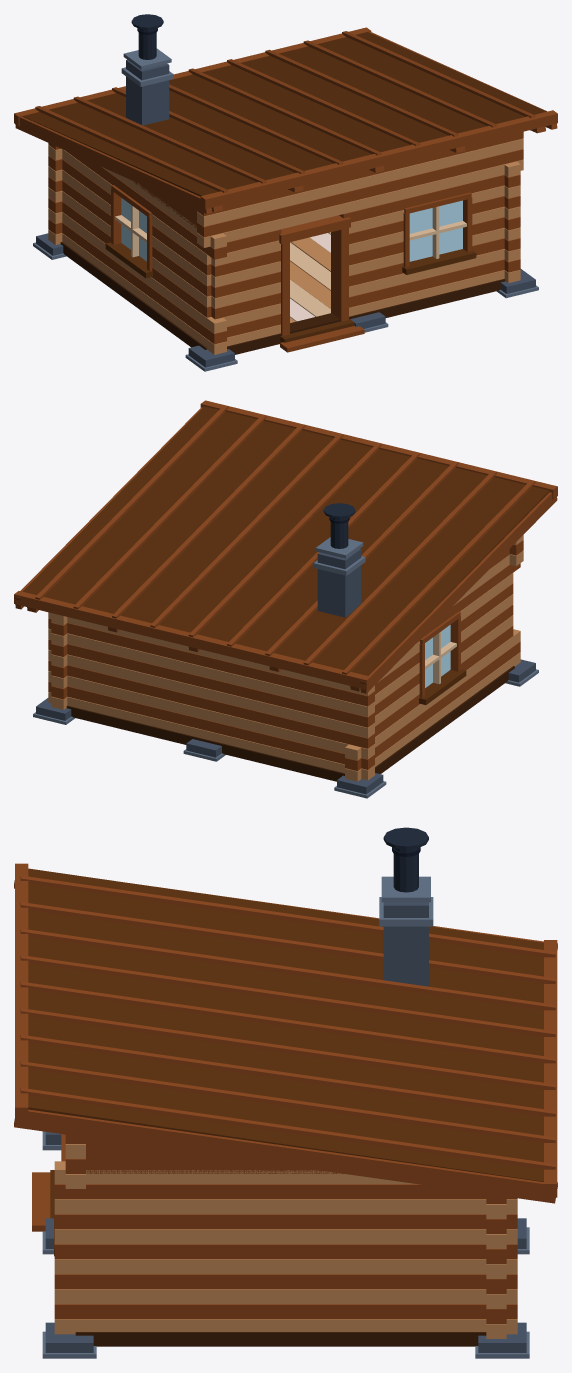
Rendered from player_house.obj.
The picture shows the model from 3 angles, top to bottom: view 1: azimuth 30°, elevation 25°; view 2: azimuth 150°, elevation 25°; view 3: azimuth 270°, elevation 25°; orthographic projection. The views are drawn at different scales.
Parts seen in each view (by area): view 1: House_SinglePitchRoof, House_TimberWalls, House_Windows, House_Foundation, House_DoorFrame, House_Chimney, House_PlankFloor; view 2: House_SinglePitchRoof, House_TimberWalls, House_Foundation, House_Chimney, House_Windows; view 3: House_SinglePitchRoof, House_TimberWalls, House_Foundation, House_Chimney, House_DoorFrame.
Boxes of the visible parts, x1,y1,x2,y2 form: House_SinglePitchRoof: (14,27,557,213); House_TimberWalls: (48,131,523,354); House_Windows: (105,185,476,278); House_Foundation: (33,233,538,371); House_DoorFrame: (279,215,364,352); House_Chimney: (121,14,173,125); House_PlankFloor: (290,232,330,322); House_SinglePitchRoof: (14,400,557,693); House_TimberWalls: (48,535,523,781); House_Foundation: (33,659,538,798); House_Chimney: (313,503,365,617); House_Windows: (419,611,466,704); House_SinglePitchRoof: (14,863,557,1203); House_TimberWalls: (54,1134,517,1338); House_Foundation: (42,1131,529,1358); House_Chimney: (379,827,433,986); House_DoorFrame: (32,1170,54,1231).
Bounding box in the file's own units: 19.2 × 12.47 × 18.1.
